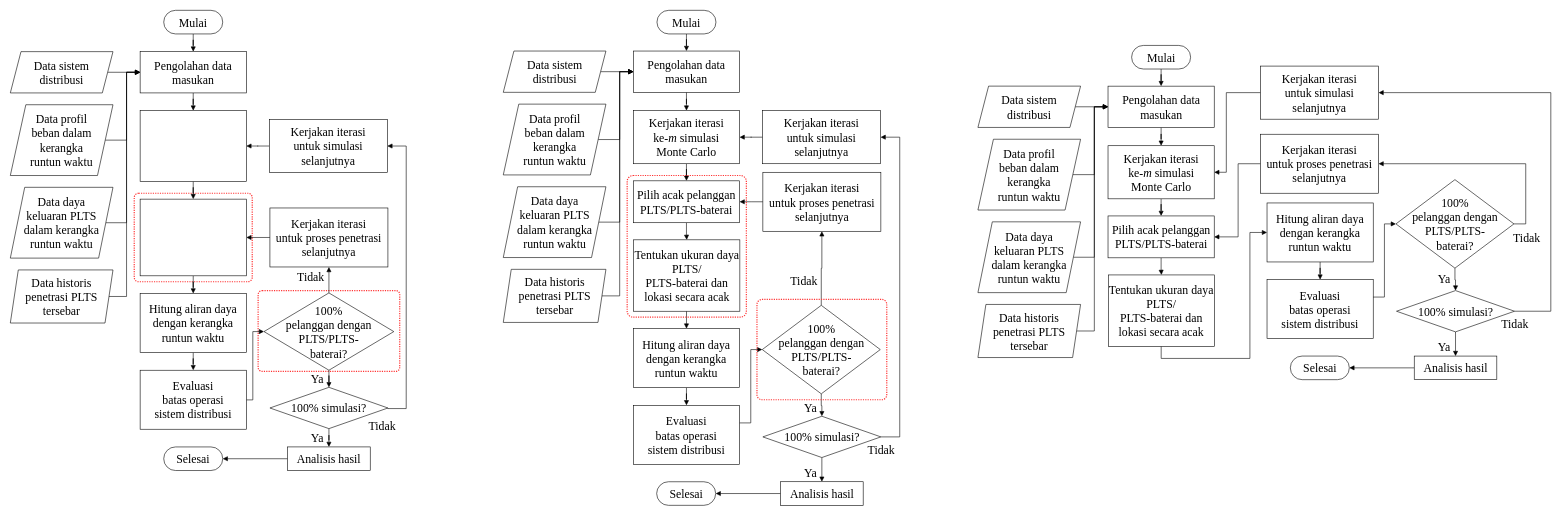
Image size: 1566x516. Some labels were removed from this diagram. Here are the shapes that lost their labels. From the top down, the box of each, then its label:
(140, 110, 246, 181): Kerjakan iterasi ke- m simulasi Markov Chain Monte Carlo
(140, 199, 246, 276): Penyebaran PLTS dan PLTS-baterai dengan Markov Chain Monte Carlo
